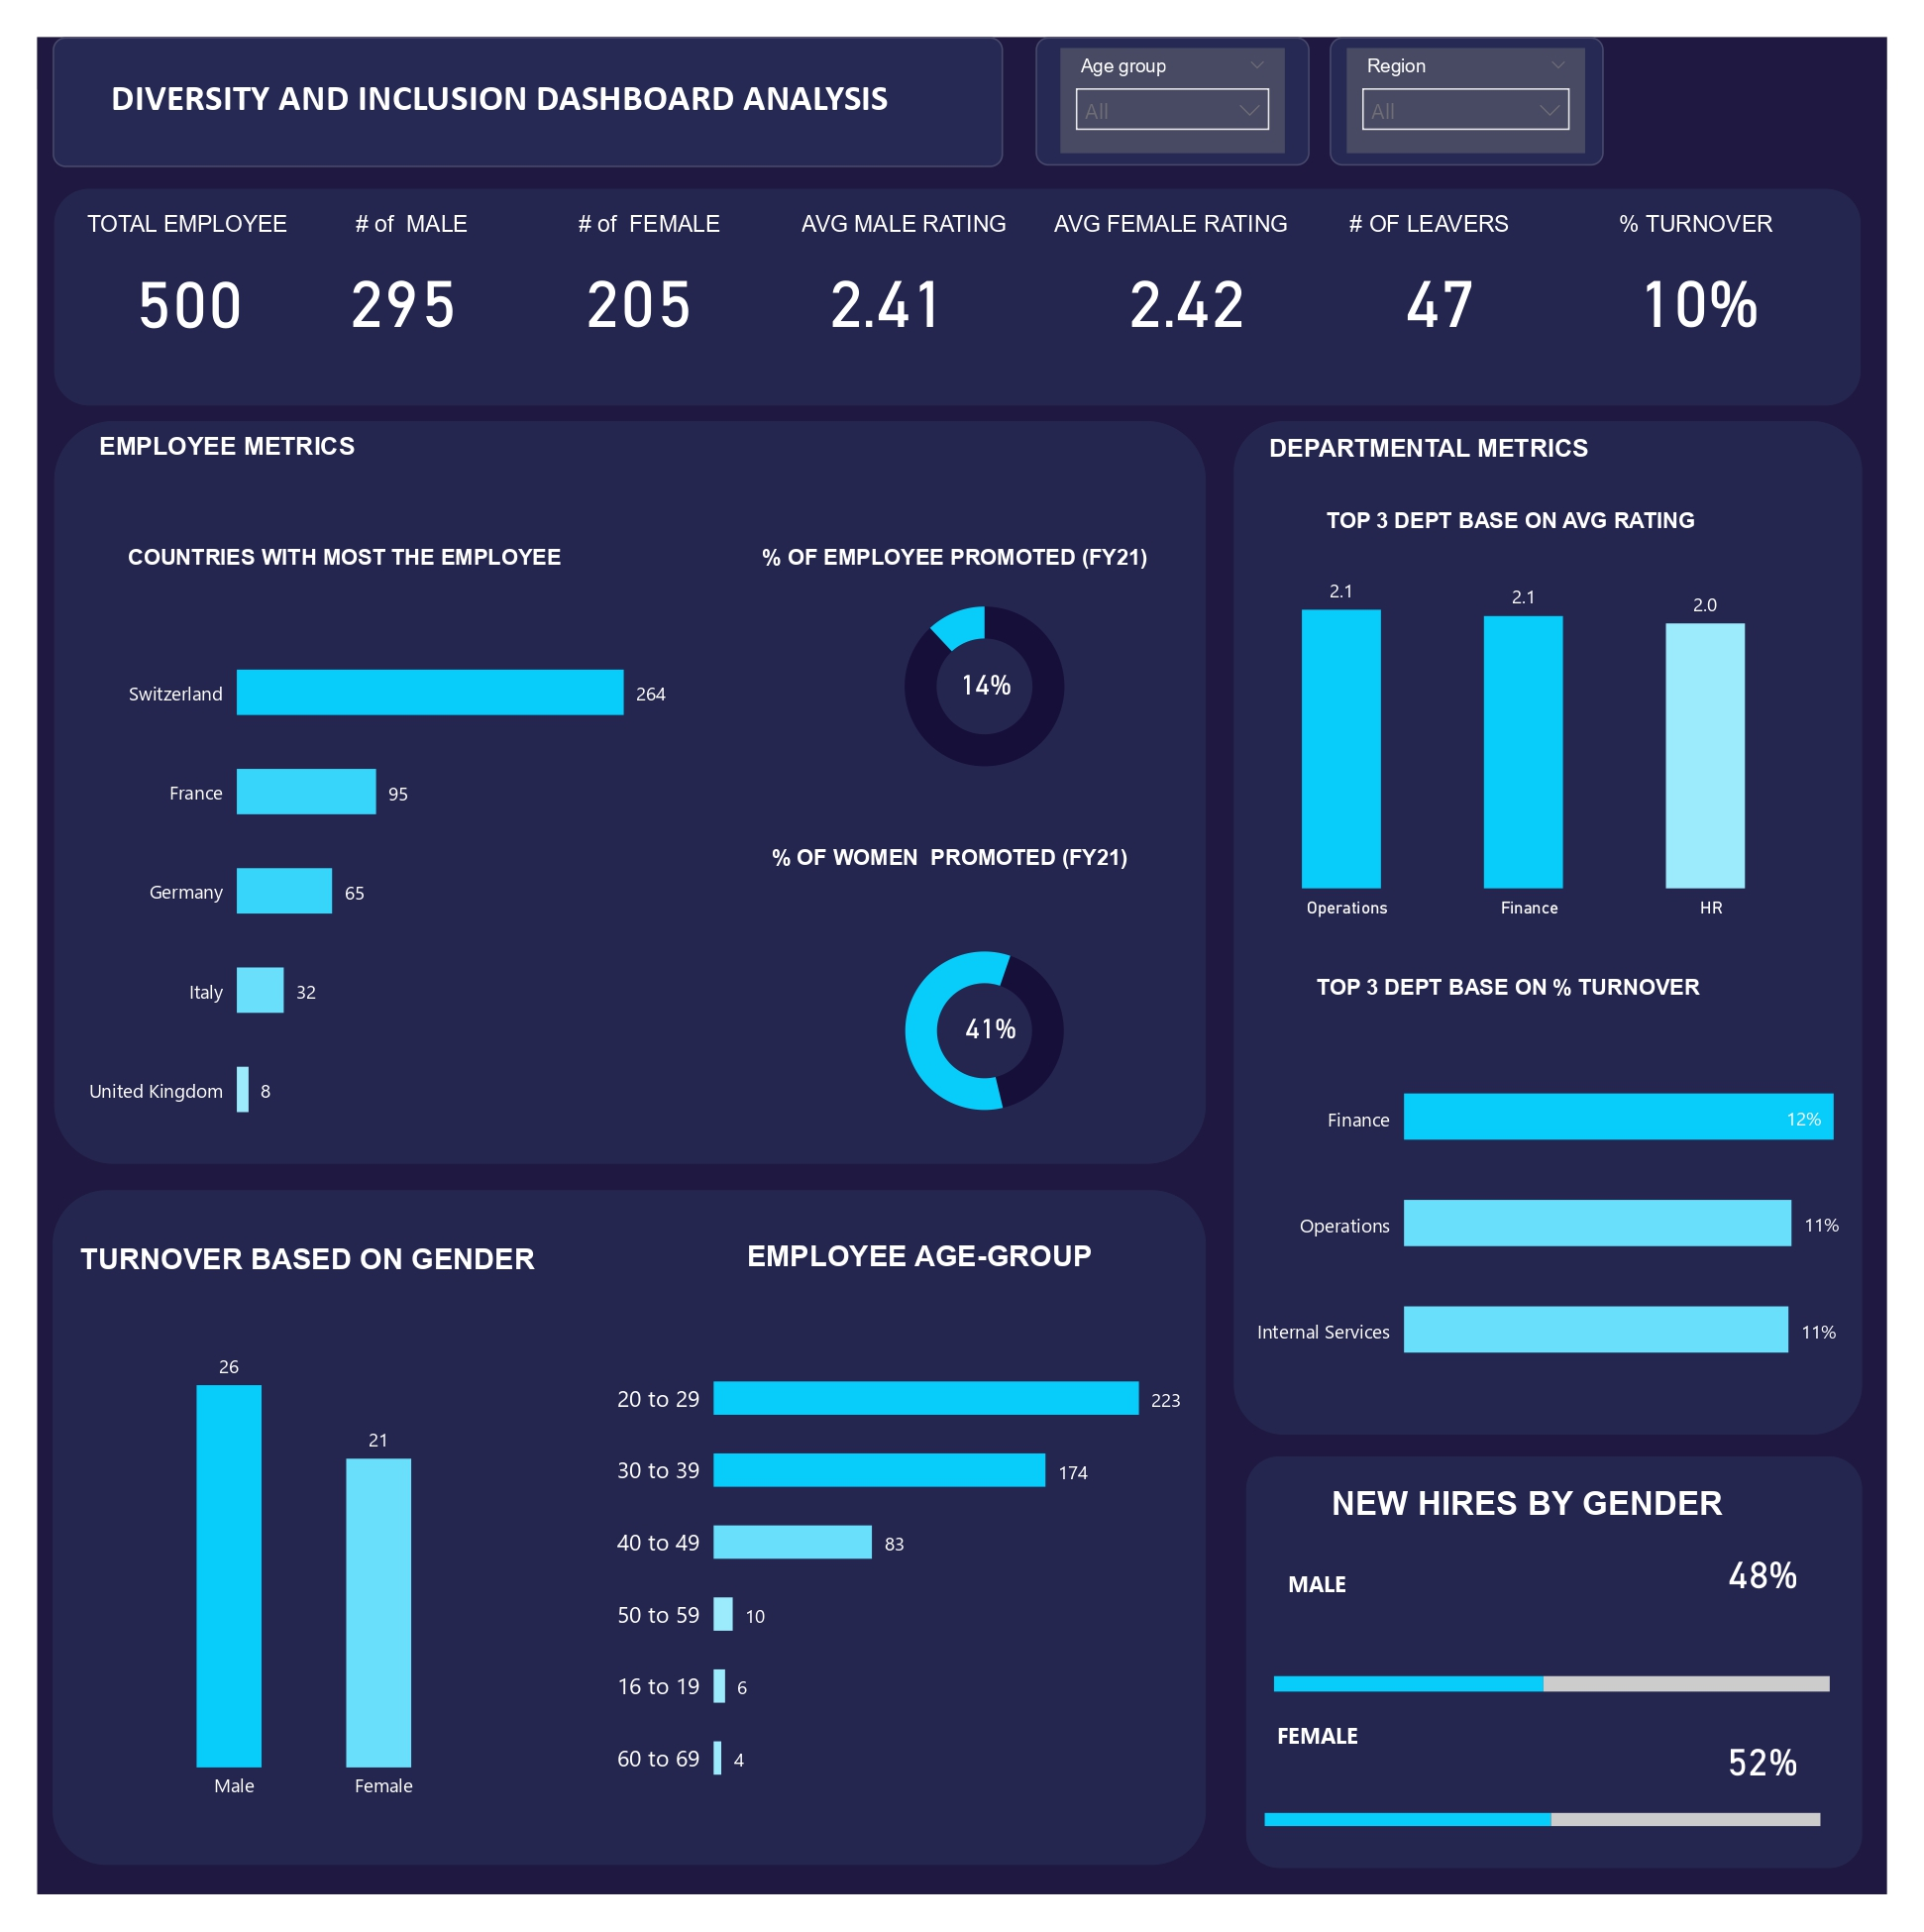

Layout of this report page (visuals, bound fields, positions):
{"tool":"powerbi","page":{"name":"Dashboard","canvas":[1195,1200],"ordinal":0},"visuals":[{"type":"shape","box":[773.1,247.8,406,655.2],"z":0},{"type":"shape","box":[834.8,0,177.5,83.1],"z":1000},{"type":"shape","box":[644.9,0,177.5,83.1],"z":2000},{"type":"shape","box":[10.4,0,613.4,83.6],"z":3000},{"type":"textbox","box":[16.1,19.4,566.1,45.2],"z":4000},{"type":"slicer","fields":{"Values":["real1.Age group"]},"box":[660.7,6.7,144.9,68.5],"z":5000},{"type":"slicer","fields":{"Values":["real1.Region"]},"box":[846.1,6.7,153.9,68.5],"z":6000},{"type":"shape","box":[10.8,98.5,1167.7,140],"z":7000},{"type":"textbox","box":[27,106.7,159.6,29.2],"z":8000},{"type":"card","fields":{"Values":["CountNonNull(real1.Employee ID)"]},"box":[41.6,141.8,111.2,52.8],"z":9000},{"type":"textbox","box":[201.3,106.5,108.7,30.4],"z":10000},{"type":"card","fields":{"Values":["real1.Totalmale"]},"box":[188.5,136.1,95.1,63.9],"z":11000},{"type":"textbox","box":[344.6,106.5,123.9,30.4],"z":12000},{"type":"card","fields":{"Values":["real1.Totalfemale"]},"box":[339.3,136.1,100,63.9],"z":13000},{"type":"card","fields":{"Values":["real1.AvgMaleRating"]},"box":[504.9,141,88.5,54.1],"z":14000},{"type":"textbox","box":[489.3,106.5,158.7,30.4],"z":15000},{"type":"textbox","box":[651.9,106.5,180.4,30.4],"z":16000},{"type":"card","fields":{"Values":["real1.AvgFemaleRating"]},"box":[697.6,141,89.1,54.3],"z":17000},{"type":"card","fields":{"Values":["real1.%TUrnover"]},"box":[1011.5,136.1,124.6,63.9],"z":18000},{"type":"textbox","box":[1013,106.5,141.3,28.3],"z":19000},{"type":"textbox","box":[842.6,106.5,150,30.4],"z":20000},{"type":"card","fields":{"Values":["real1.NoofLeavers"]},"box":[864.7,139.9,82.6,56.5],"z":21000},{"type":"shape","box":[10.8,247.7,744.6,480],"z":22000},{"type":"shape","box":[780.8,917.3,398.1,265.4],"z":23000},{"type":"columnChart","fields":{"Category":["real1.Department"],"Y":["Hr Manager.avgoverallrating"]},"box":[765.2,321.7,397.8,254.3],"z":24000},{"type":"textbox","box":[823.9,297.8,330.4,52.2],"z":25000},{"type":"textbox","box":[825,930.8,311.5,38.5],"z":26000},{"type":"textbox","box":[798.5,985.1,95.5,37.3],"z":27000},{"type":"barChart","fields":{"Y":["CountNonNull(real1.Employee ID)"],"Category":["real1.Nationality"]},"box":[20.9,370.1,397,358.2],"z":28000},{"type":"card","fields":{"Values":["real1.Femalehires"]},"box":[1078.9,1090.4,71.2,46.2],"z":29000,"group":"g1"},{"type":"group","id":"g1","title":"Group 2","box":[788.5,1082.7,369.2,100],"z":29000},{"type":"card","fields":{"Values":["real1.Malehires"]},"box":[1079.1,970.1,71.6,46.3],"z":30000},{"type":"hundredPercentStackedBarChart","fields":{"Y":["real1.Femalehires","real1.Malehires"]},"box":[788.5,1113.5,369.2,69.2],"z":31000,"group":"g1"},{"type":"hundredPercentStackedBarChart","fields":{"Y":["real1.Femalehires","real1.Malehires"]},"box":[794,1022.4,368.7,77.6],"z":31000},{"type":"textbox","box":[792.3,1082.7,88.5,38.5],"z":32000,"group":"g1"},{"type":"textbox","box":[26.2,250.8,265.6,39.3],"z":32000},{"type":"textbox","box":[459.1,322.4,289.6,35.8],"z":33000},{"type":"textbox","box":[464.5,516.1,295.2,33.9],"z":34000},{"type":"textbox","box":[49.3,322.4,340.3,53.7],"z":35000},{"type":"shape","box":[9.5,745.2,745.2,435.7],"z":36000},{"type":"textbox","box":[782.3,251.6,265,38.7],"z":37000},{"type":"textbox","box":[816.5,600,340.3,41.9],"z":38000},{"type":"barChart","fields":{"Category":["real1.Age group"],"Y":["CountNonNull(real1.Employee ID)"]},"box":[364.5,837.1,385.5,311.3],"z":39000},{"type":"textbox","box":[442.6,772.3,302.1,38.3],"z":40000},{"type":"textbox","box":[17,772.3,389.4,74.5],"z":41000},{"type":"donutChart","fields":{"Y":["CountNonNull(Hr Manager.Employee ID)","Hr Manager.% employees promoted (FY21)"]},"box":[456.5,350,311.3,138.7],"z":42000},{"type":"card","fields":{"Values":["Hr Manager.% employees promoted (FY21)"]},"box":[582.3,398.4,61.3,40.3],"z":43000},{"type":"donutChart","fields":{"Y":["Hr Manager.% Promotees who were women","Hr Manager.% Promotees who were men"]},"box":[456.5,572.6,311.3,138.7],"z":44000},{"type":"card","fields":{"Values":["Hr Manager.% Promotees who were women"]},"box":[585.5,621,61.3,40.3],"z":45000},{"type":"clusteredBarChart","fields":{"Category":["Hr Manager.Department"],"Y":["Hr Manager.%Turnover"]},"box":[773.6,641.5,420.8,245.3],"z":46000},{"type":"columnChart","fields":{"Y":["Hr Manager.test"],"Category":["Hr Manager.Gender"]},"box":[11.3,819.4,329,329],"z":47001}]}

Visuals, with their boxes in screenshot pixels (x1, y1, x2, y2), scaled from the page's 1195x1200 canvas onto the 1924x1932 screenshot:
shape: 1244:399:1898:1453
shape: 1344:0:1630:134
shape: 1038:0:1324:134
shape: 17:0:1005:135
textbox: 26:32:937:104
slicer - real1.Age group: 1064:11:1297:121
slicer - real1.Region: 1362:11:1610:121
shape: 18:159:1897:384
textbox: 44:171:300:219
card - CountNonNull(real1.Employee ID): 67:228:246:313
textbox: 324:171:499:220
card - real1.Totalmale: 303:219:457:322
textbox: 555:171:754:220
card - real1.Totalfemale: 546:219:707:322
card - real1.AvgMaleRating: 813:227:955:314
textbox: 788:171:1043:220
textbox: 1049:171:1340:220
card - real1.AvgFemaleRating: 1123:227:1266:314
card - real1.%TUrnover: 1629:219:1829:322
textbox: 1631:171:1859:217
textbox: 1356:171:1598:220
card - real1.NoofLeavers: 1392:225:1525:316
shape: 18:399:1217:1172
shape: 1257:1477:1898:1904
columnChart - real1.Department x Hr Manager.avgoverallrating: 1232:518:1872:927
textbox: 1327:480:1859:564
textbox: 1329:1499:1830:1560
textbox: 1286:1586:1440:1646
barChart - CountNonNull(real1.Employee ID) x real1.Nationality: 34:595:673:1172
card - real1.Femalehires: 1737:1756:1852:1830
"Group 2" group: 1269:1743:1864:1904
card - real1.Malehires: 1738:1561:1853:1637
hundredPercentStackedBarChart - real1.Femalehires x real1.Malehires: 1269:1792:1864:1904
hundredPercentStackedBarChart - real1.Femalehires x real1.Malehires: 1278:1646:1872:1771
textbox: 1276:1743:1418:1805
textbox: 43:404:470:467
textbox: 739:519:1206:577
textbox: 748:831:1224:886
textbox: 79:519:627:605
shape: 15:1200:1215:1901
textbox: 1259:405:1686:468
textbox: 1315:966:1863:1033
barChart - real1.Age group x CountNonNull(real1.Employee ID): 587:1347:1208:1849
textbox: 712:1243:1199:1305
textbox: 28:1243:654:1363
donutChart - CountNonNull(Hr Manager.Employee ID) x Hr Manager.% employees promoted (FY21): 735:564:1236:787
card - Hr Manager.% employees promoted (FY21): 937:641:1036:706
donutChart - Hr Manager.% Promotees who were women x Hr Manager.% Promotees who were men: 735:921:1236:1145
card - Hr Manager.% Promotees who were women: 942:1000:1041:1065
clusteredBarChart - Hr Manager.Department x Hr Manager.%Turnover: 1245:1032:1923:1428
columnChart - Hr Manager.test x Hr Manager.Gender: 18:1320:548:1849
